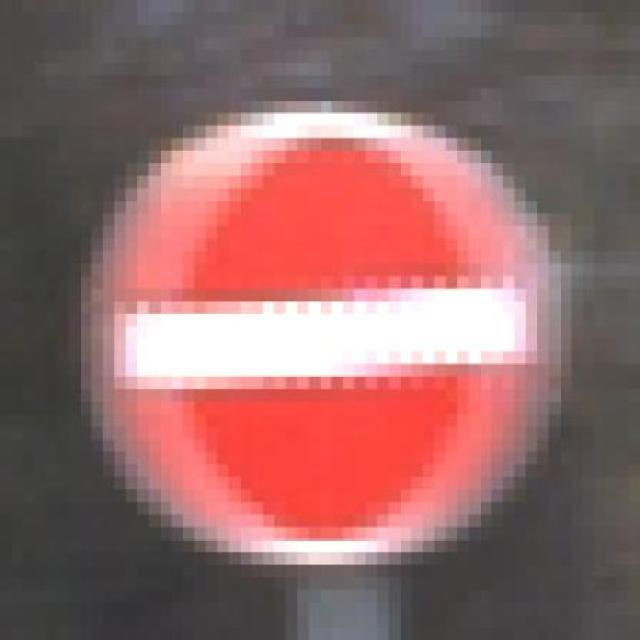B2: (79, 99, 559, 567)
